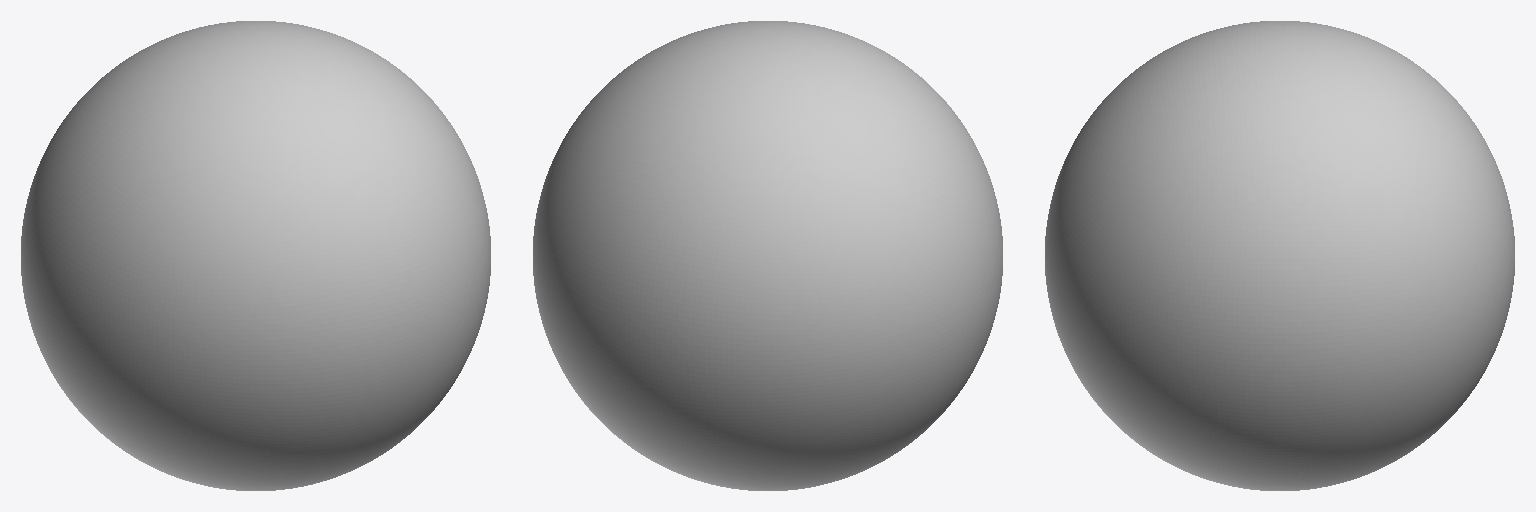
The model's file is planet.obj.
3 views of the same model, side by side, from view 1: azimuth 30°, elevation 25°; view 2: azimuth 150°, elevation 25°; view 3: azimuth 270°, elevation 25° (orthographic).
Parts seen in each view (by area): view 1: Cube; view 2: Cube; view 3: Cube.
Boxes of the visible parts, box(x1,y1,x2,y2) form: Cube: box(21, 21, 490, 490); Cube: box(533, 21, 1002, 490); Cube: box(1045, 21, 1514, 490).
Size of the model in its own units: 1.71 by 1.71 by 1.71.